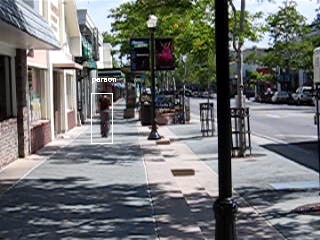person: (97, 91, 112, 140), (96, 91, 111, 140), (98, 91, 113, 140), (97, 90, 112, 139), (97, 92, 112, 141)
target_negative: (10, 187, 223, 216), (144, 186, 176, 210), (53, 191, 93, 199), (104, 171, 140, 178), (283, 120, 303, 129), (119, 203, 159, 207)
